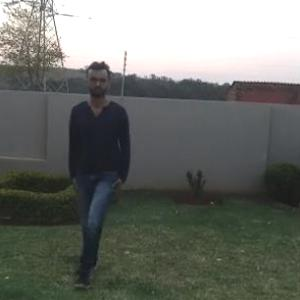follow: (67, 55, 134, 277)
